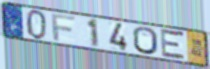0: (26, 9, 48, 41)
1: (86, 17, 102, 50)
4: (108, 21, 130, 52)
E: (160, 27, 187, 63)
F: (50, 13, 77, 42)
O: (132, 26, 160, 56)
